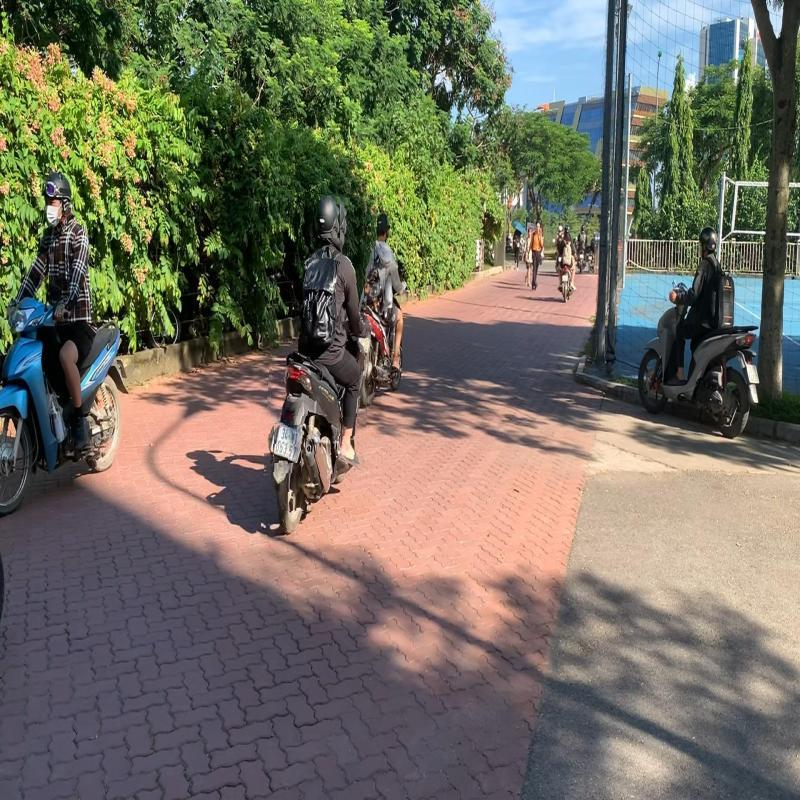helmet: (313, 194, 340, 238)
licenseplate: (274, 424, 302, 463)
motorcyclist: (264, 192, 374, 544)
